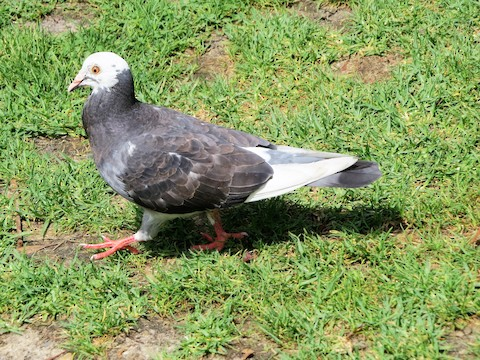pigeon: (50, 46, 385, 266)
